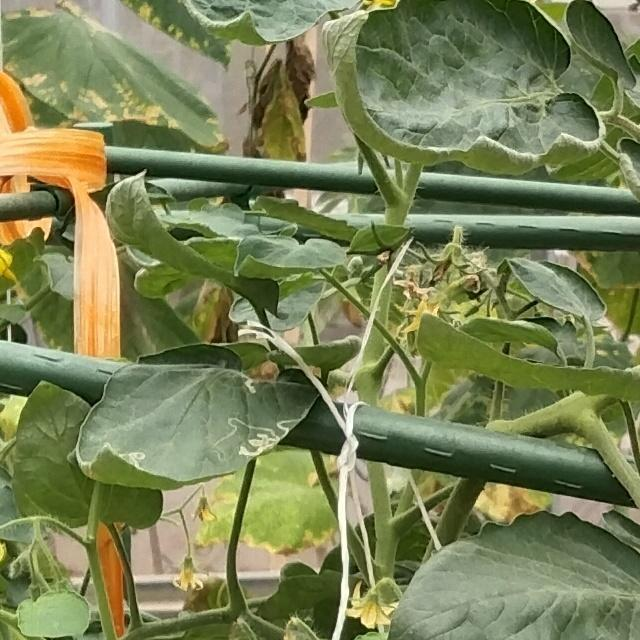Healthy: (384, 508, 640, 640)
Leaf_Miner: (74, 339, 319, 498)
